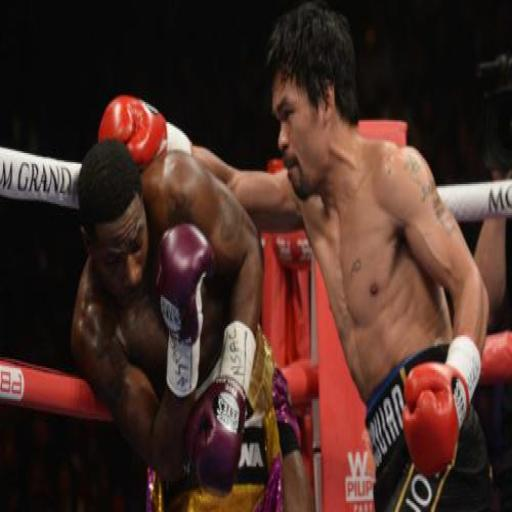boxing: (96, 2, 493, 510), (38, 100, 320, 512)
